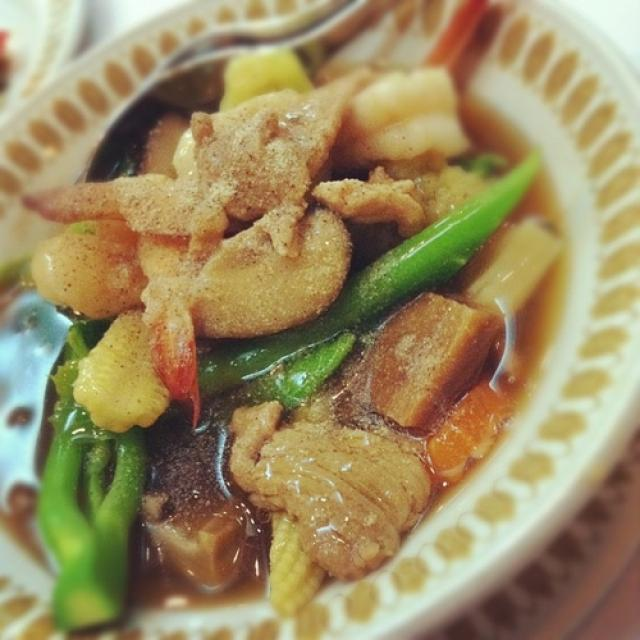面条主食: (19, 18, 620, 631)
